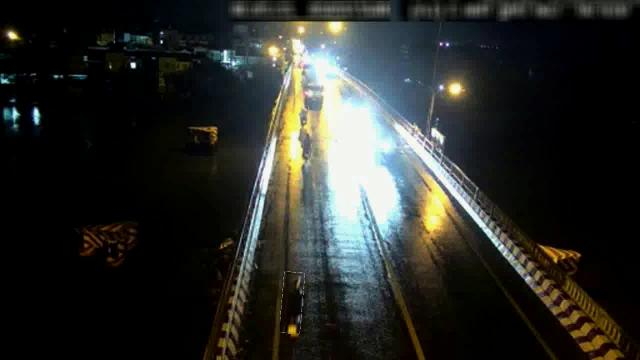Bike: (280, 272, 304, 334), (297, 105, 309, 124)
